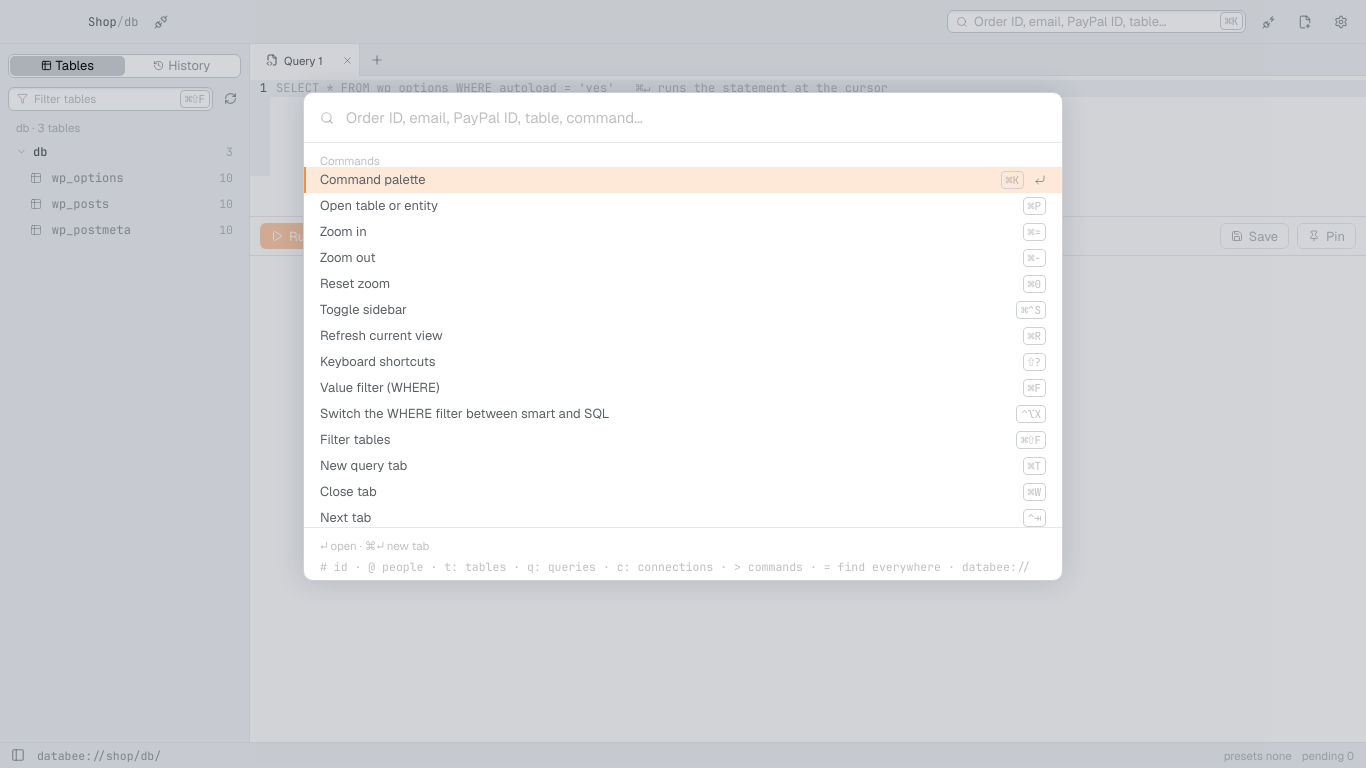
App › sidebar toggle › hides the sidebar when Toggle sidebar is chosen in the palette
This screenshot has width=1366, height=768.
Check: the element named "Databases" is shown, box 16,144 -> 233,238
Step 1. Type "Toggle sidebar" into the field named "Search everything" → (695, 118), box 344,107 -> 1046,128
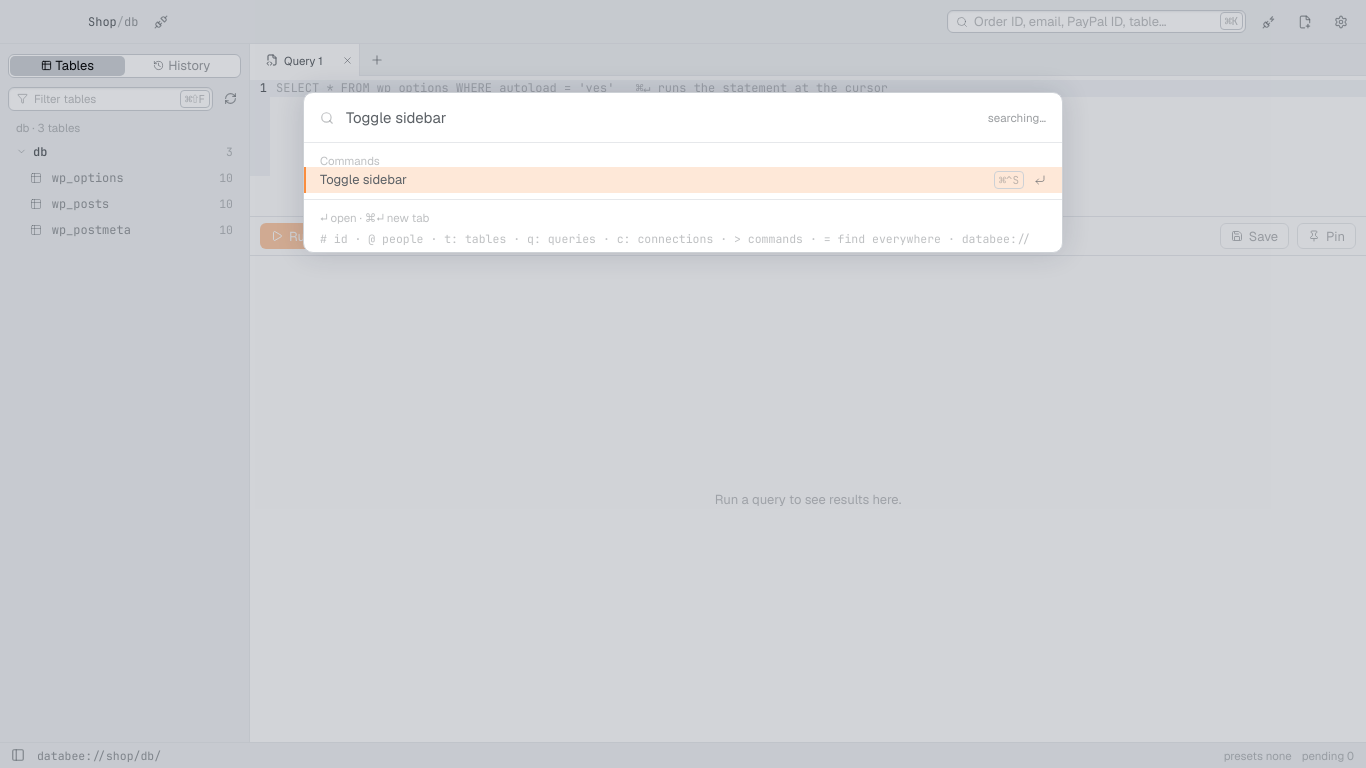
Step 2. Click the option "Toggle sidebar ⌘⌃S" → (363, 180), box 304,167 -> 1062,193
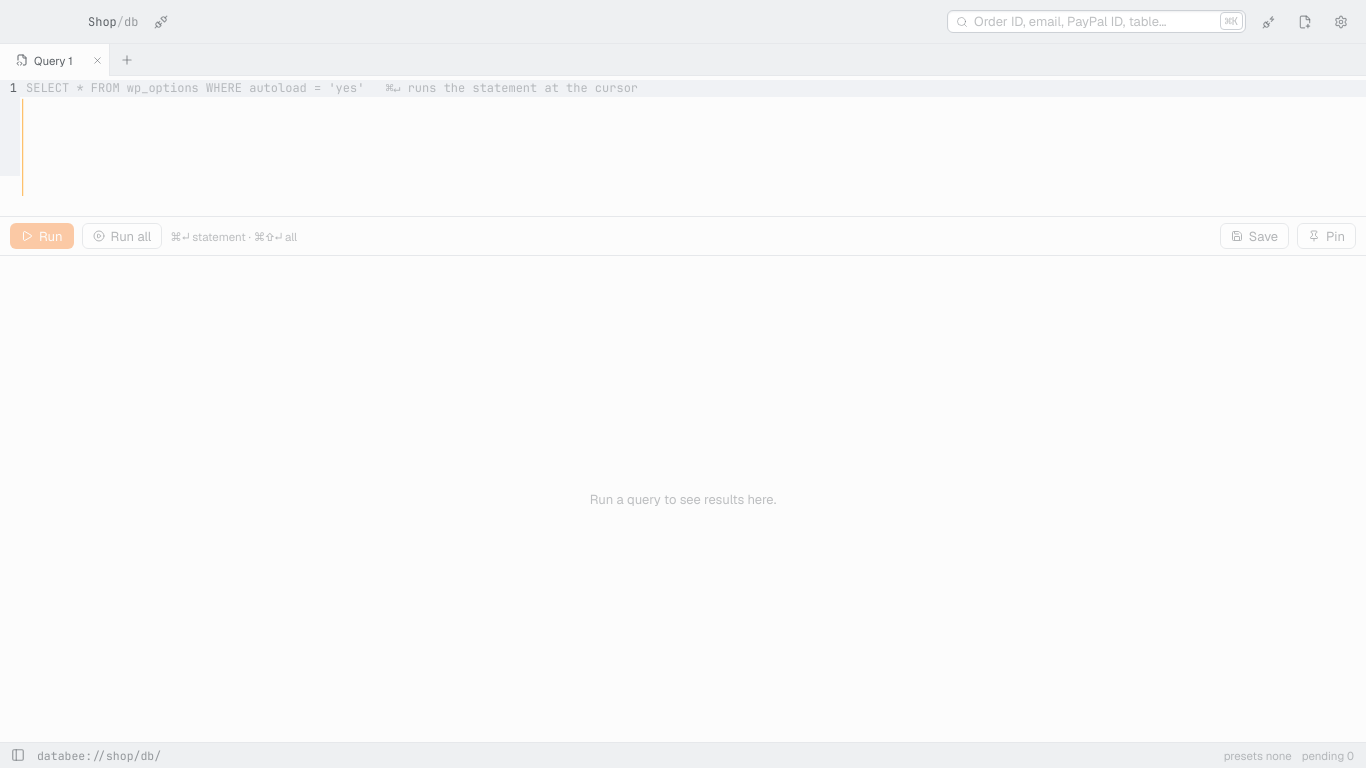
Check: the list item "Databases" is gone
